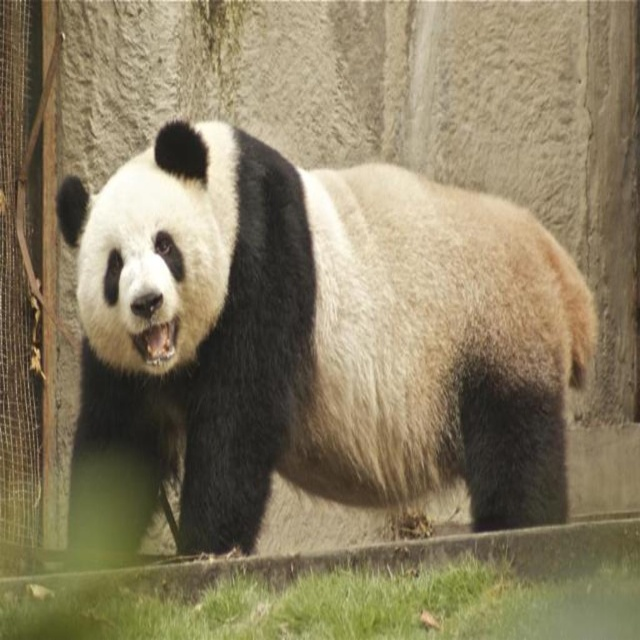Panda: (62, 111, 594, 567)
